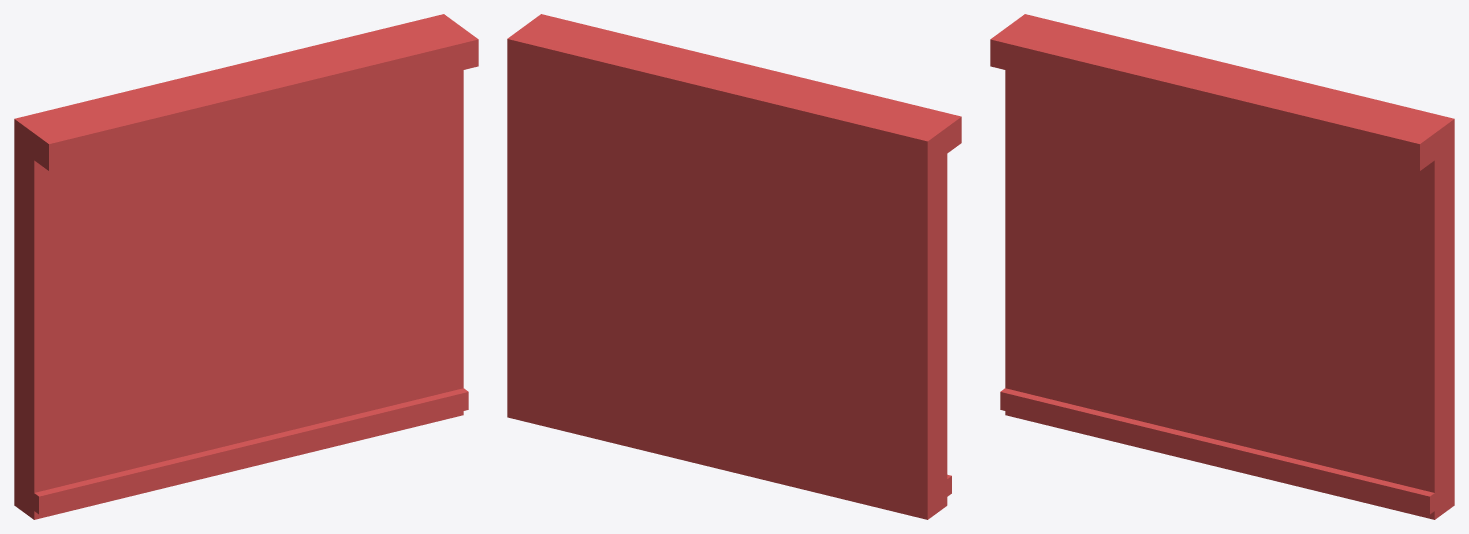
Rendered from bandeau.glb.
3 views of the same model, side by side, from view 1: azimuth 30°, elevation 25°; view 2: azimuth 150°, elevation 25°; view 3: azimuth 330°, elevation 25° (orthographic). The views are drawn at different scales.
Visible parts, largest first — view 1: bandeau; view 2: bandeau; view 3: bandeau.
Boxes of the visible parts, x1=… form: bandeau: x1=14, y1=14, x2=478, y2=519; bandeau: x1=507, y1=14, x2=961, y2=519; bandeau: x1=990, y1=14, x2=1454, y2=519.
Bounding box in the file's own units: 1 × 0.86 × 0.14.
